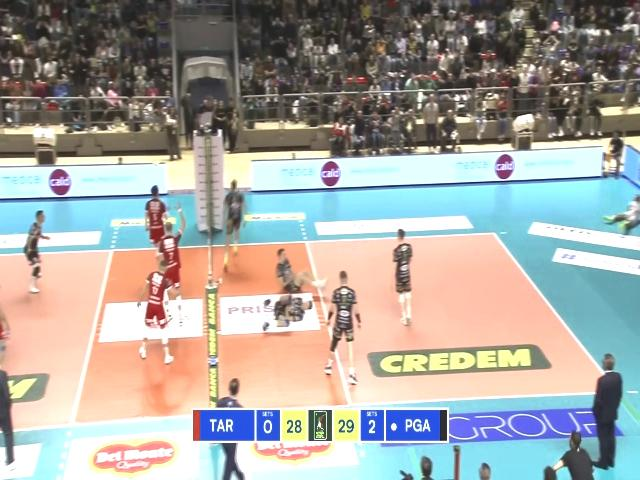volleyball court: (1, 230, 618, 429)
